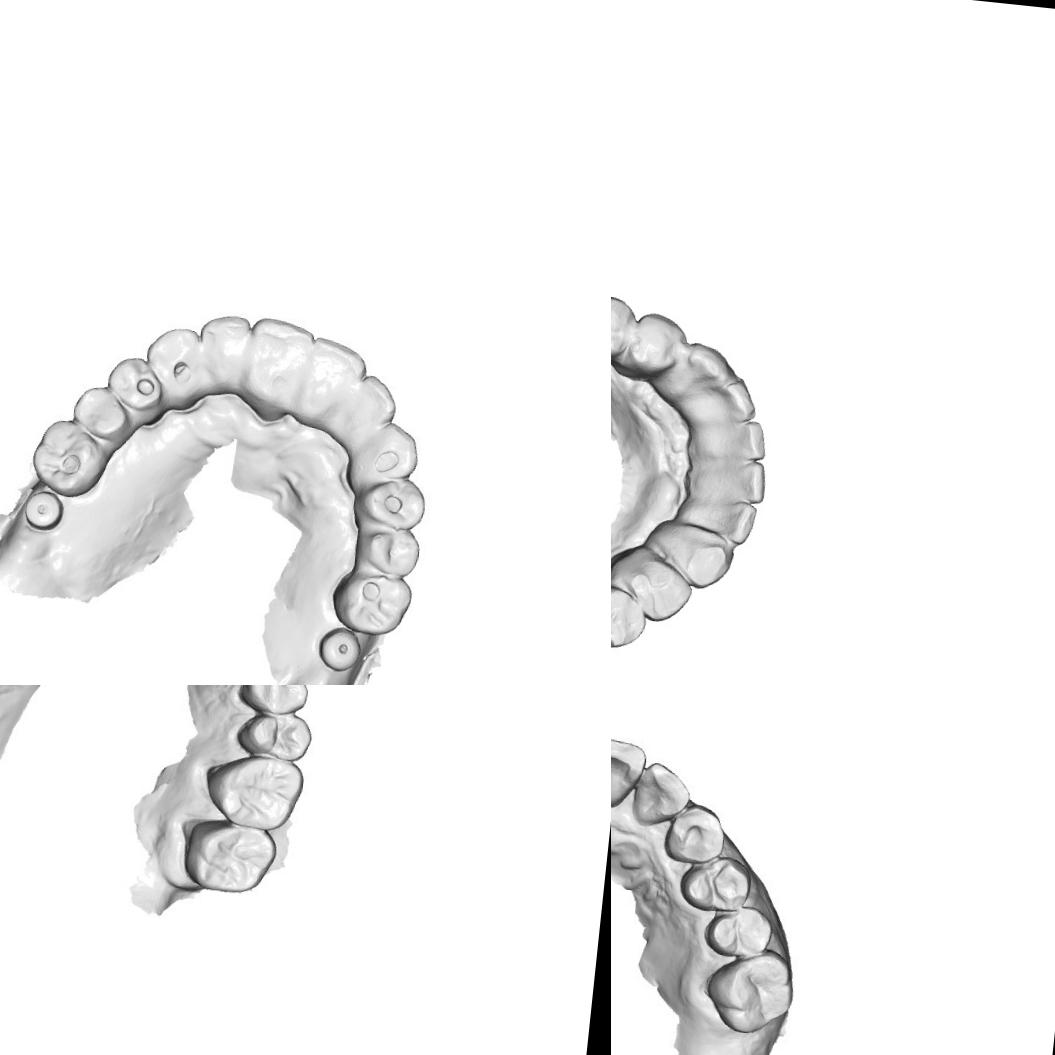canine: (646, 516, 738, 593), (344, 416, 424, 494), (140, 321, 206, 408), (660, 800, 728, 870), (674, 339, 738, 398)
implant: (316, 624, 362, 674), (21, 488, 67, 534)
incisor: (238, 313, 318, 410), (296, 333, 374, 416), (191, 311, 252, 397), (329, 371, 400, 444), (625, 758, 693, 833), (701, 452, 768, 508), (698, 494, 762, 548), (702, 416, 768, 467), (696, 376, 760, 428), (611, 728, 648, 816)
molar: (201, 746, 314, 840), (702, 944, 801, 1042), (178, 820, 278, 899), (24, 413, 109, 501), (325, 566, 414, 638)
premolar: (618, 310, 692, 385), (226, 708, 322, 765), (681, 850, 754, 918), (702, 902, 776, 968), (350, 472, 427, 534), (102, 354, 168, 421), (627, 558, 691, 623), (352, 524, 425, 580), (70, 382, 131, 442), (611, 581, 651, 653), (234, 685, 314, 717), (611, 289, 643, 364)
